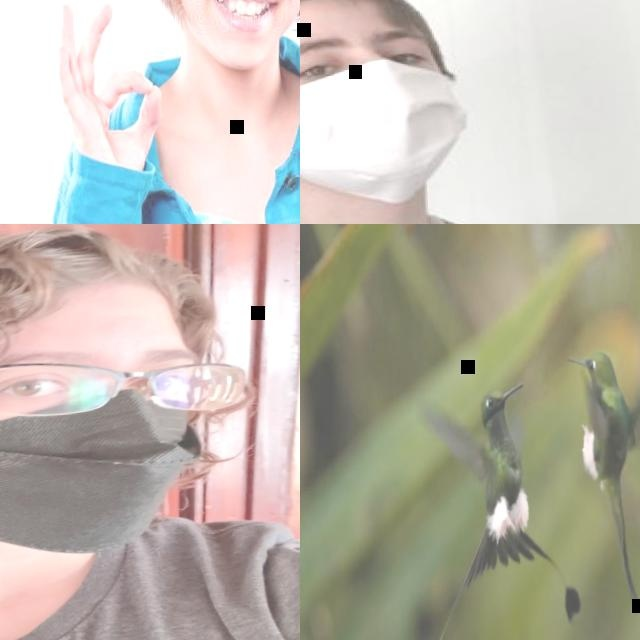Mask: (0, 385, 209, 569), (300, 55, 469, 210)
NO-Hardhat: (0, 224, 194, 354), (300, 0, 421, 30)
NO-Mask: (185, 0, 300, 70)
NO-Safety Vest: (0, 517, 300, 640), (109, 59, 300, 224)
Person: (0, 224, 300, 640), (300, 0, 616, 224), (0, 0, 300, 224)
